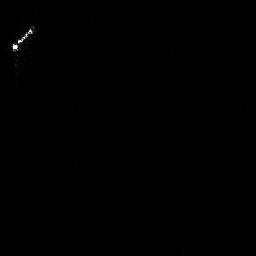ship: (8, 23, 38, 53)
